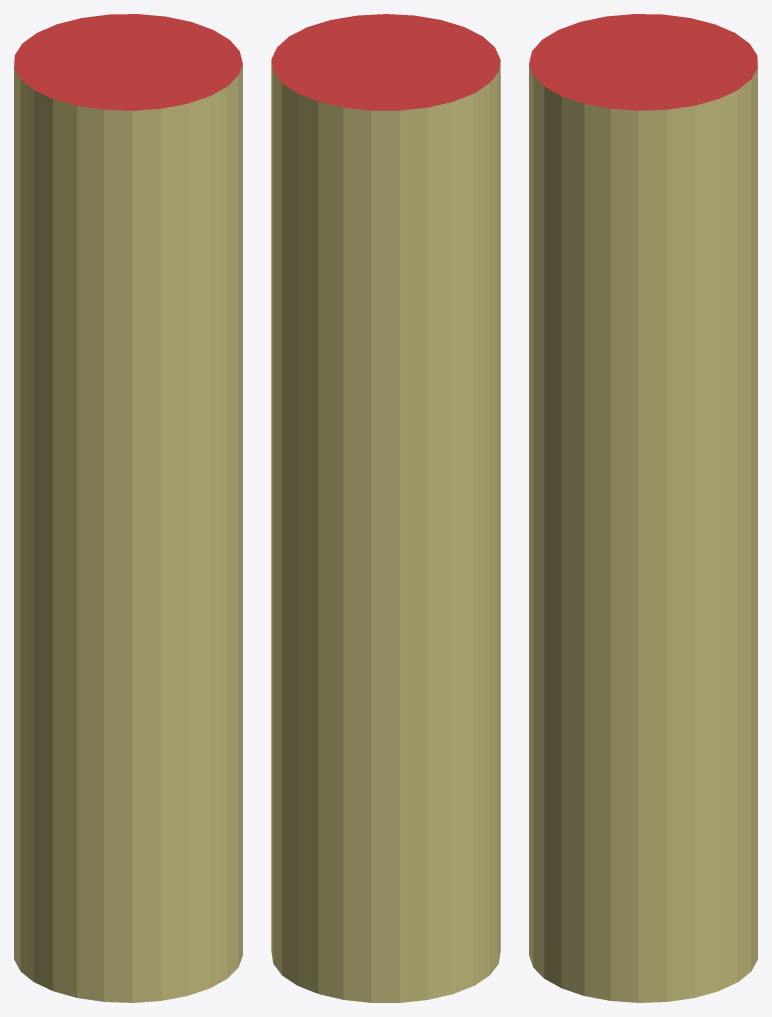
3 views of the same model, side by side, from view 1: azimuth 30°, elevation 25°; view 2: azimuth 150°, elevation 25°; view 3: azimuth 270°, elevation 25° (orthographic).
Bounding box in the file's own units: 2.48 × 2.48 × 10.69.
